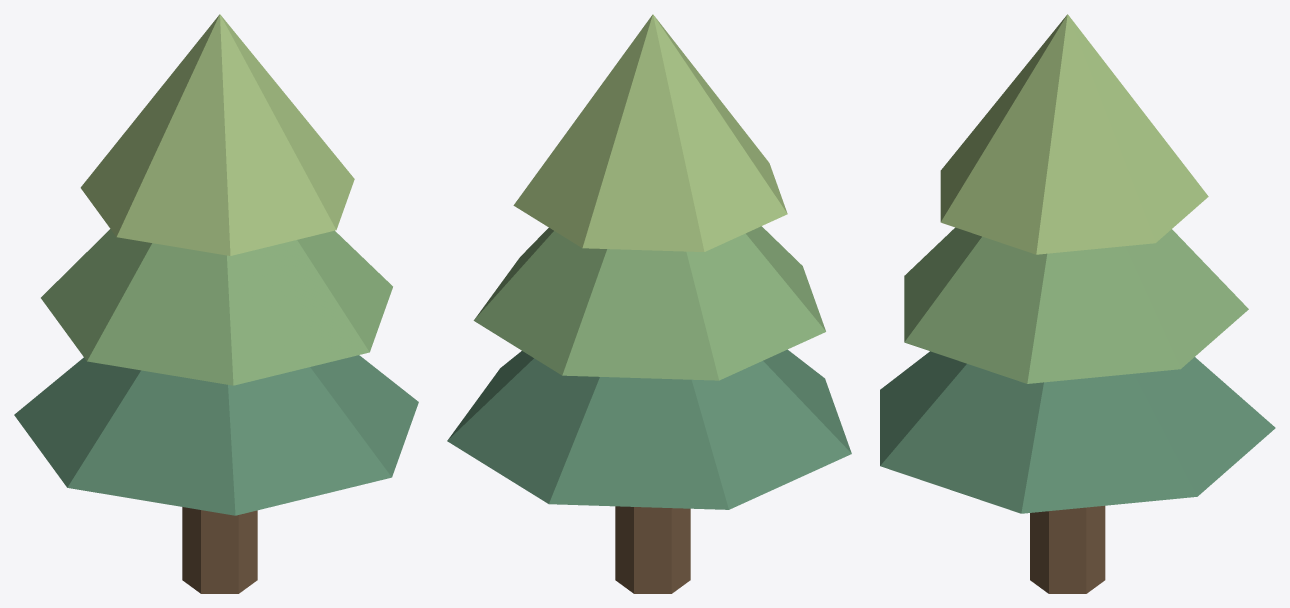
File: MOD_Conifer_A.fbx
The picture shows the model from 3 angles, left to right: view 1: azimuth 30°, elevation 25°; view 2: azimuth 150°, elevation 25°; view 3: azimuth 270°, elevation 25°; orthographic projection.
Parts seen in each view (by area): view 1: TREE_LeftHero_Crown_0, TREE_LeftHero_Crown_1, TREE_LeftHero_Crown_2, TREE_LeftHero_Trunk; view 2: TREE_LeftHero_Crown_0, TREE_LeftHero_Crown_1, TREE_LeftHero_Crown_2, TREE_LeftHero_Trunk; view 3: TREE_LeftHero_Crown_0, TREE_LeftHero_Crown_1, TREE_LeftHero_Crown_2, TREE_LeftHero_Trunk.
Part boxes in pixels (x1=…): TREE_LeftHero_Crown_0: x1=14, y1=355, x2=418, y2=515; TREE_LeftHero_Crown_1: x1=41, y1=229, x2=392, y2=385; TREE_LeftHero_Crown_2: x1=80, y1=14, x2=354, y2=255; TREE_LeftHero_Trunk: x1=182, y1=507, x2=257, y2=593; TREE_LeftHero_Crown_0: x1=447, y1=349, x2=851, y2=509; TREE_LeftHero_Crown_1: x1=473, y1=226, x2=825, y2=380; TREE_LeftHero_Crown_2: x1=513, y1=14, x2=787, y2=251; TREE_LeftHero_Trunk: x1=615, y1=506, x2=690, y2=593; TREE_LeftHero_Crown_0: x1=880, y1=351, x2=1275, y2=513; TREE_LeftHero_Crown_1: x1=904, y1=227, x2=1248, y2=383; TREE_LeftHero_Crown_2: x1=940, y1=14, x2=1208, y2=254; TREE_LeftHero_Trunk: x1=1030, y1=505, x2=1105, y2=593.
Bounding box in the file's own units: 3.87 × 5.95 × 3.77.
